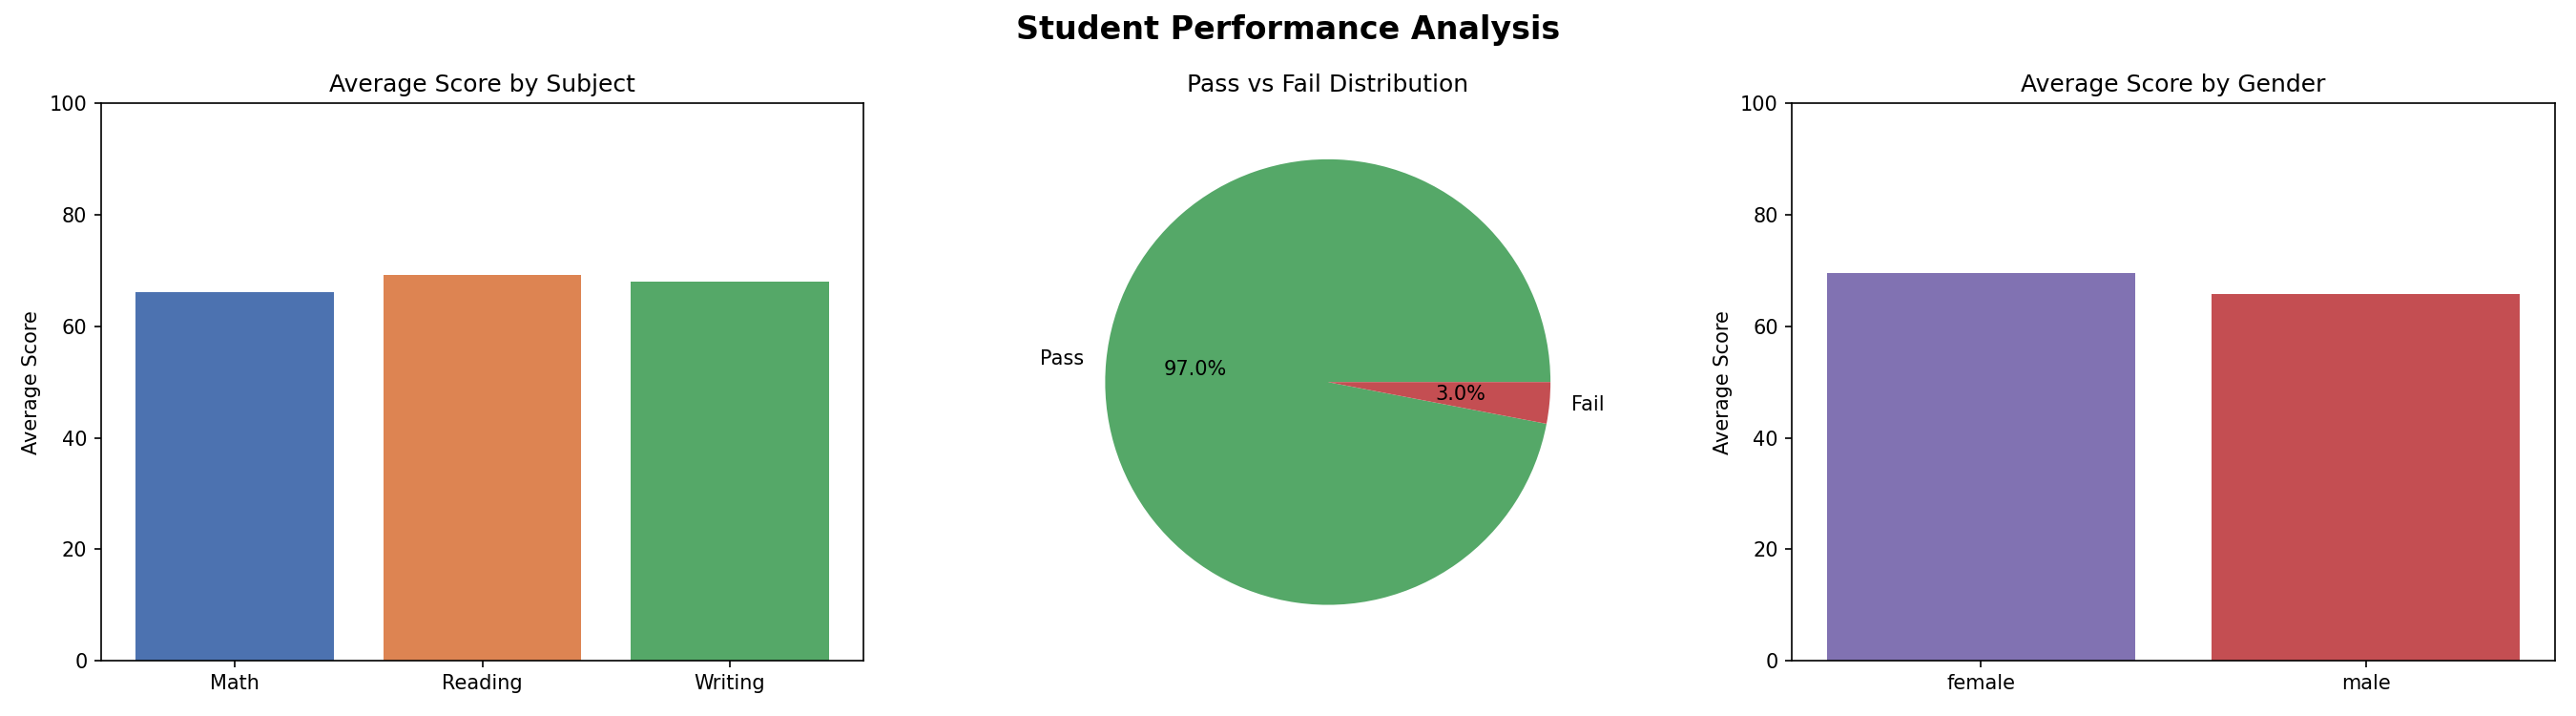

The page's visual inventory and layout, read from the dashboard file:
{"tool":"powerbi","page":{"name":"Page 1","canvas":[1280,720],"ordinal":0},"visuals":[{"type":"pieChart","fields":{"Category":["Student Data.result"],"Y":["Sum(Student Data.average score)"]},"box":[56.3,0,279.9,279.9],"z":0},{"type":"clusteredBarChart","fields":{"Category":["Student Data.gender"],"Y":["Avg(Student Data.average score)"]},"box":[664.2,50.8,279.9,279.9],"z":1},{"type":"clusteredBarChart","fields":{"Category":["Summary.Subject"],"Y":["Sum(Summary.Average Score)"]},"box":[56.3,437.7,279.9,150.9],"z":2}]}

Visuals, with their boxes on the page's 1280x720 design canvas (x1, y1, x2, y2). These are canvas units, not pixel positions in the 2576x716 screenshot, which may show the page scaled, cropped or inside an application window:
pieChart - Student Data.result x Sum(Student Data.average score): locate(56, 0, 336, 280)
clusteredBarChart - Student Data.gender x Avg(Student Data.average score): locate(664, 51, 944, 331)
clusteredBarChart - Summary.Subject x Sum(Summary.Average Score): locate(56, 438, 336, 589)
